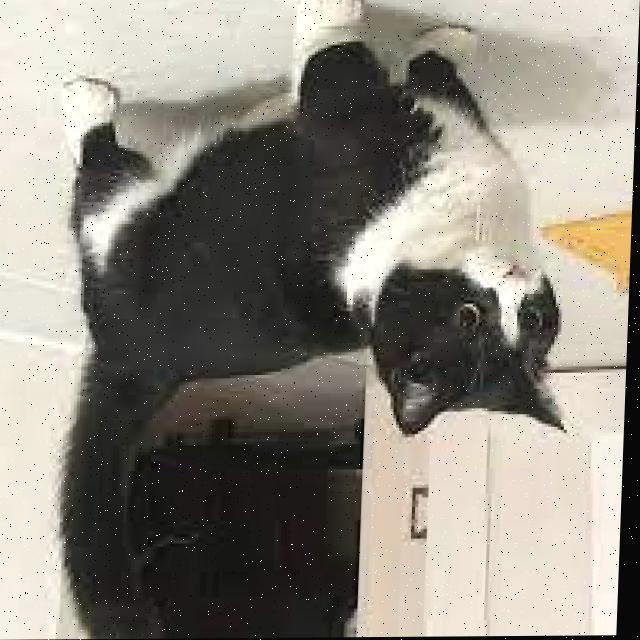Munchkin: (38, 0, 586, 640)
